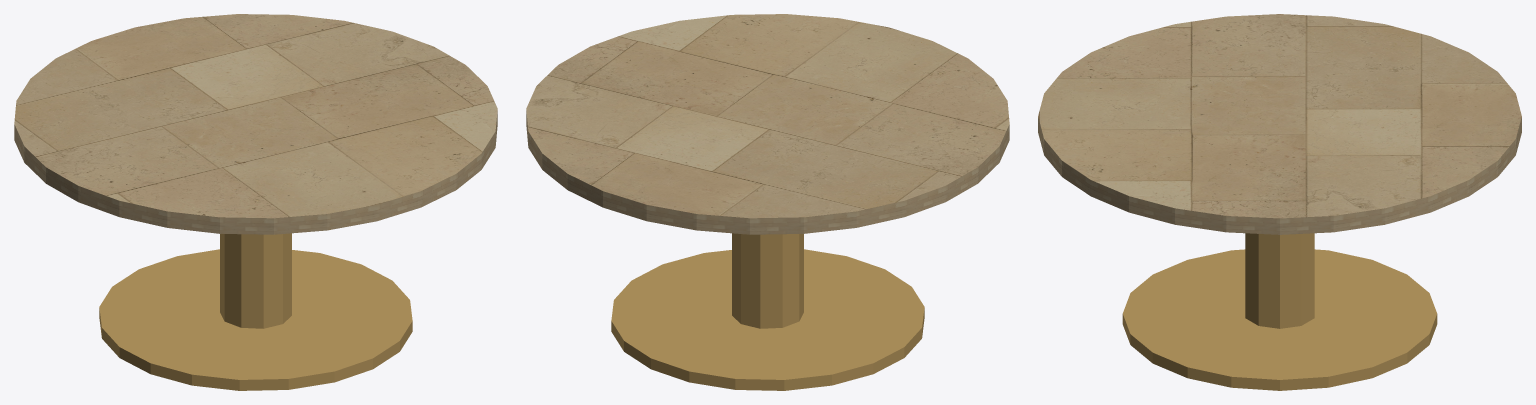
File: mesa_centro_redonda.glb
The picture shows the model from 3 angles, left to right: view 1: azimuth 30°, elevation 25°; view 2: azimuth 150°, elevation 25°; view 3: azimuth 270°, elevation 25°; orthographic projection.
Parts seen in each view (by area): view 1: mesa_centro_redonda; view 2: mesa_centro_redonda; view 3: mesa_centro_redonda.
Boxes of the visible parts, x1,y1,x2,y2 form: mesa_centro_redonda: [14, 14, 497, 390]; mesa_centro_redonda: [526, 14, 1009, 390]; mesa_centro_redonda: [1038, 14, 1521, 390].
Size of the model in its own units: 0.8 by 0.38 by 0.8.
2 materials, 1 textured.
